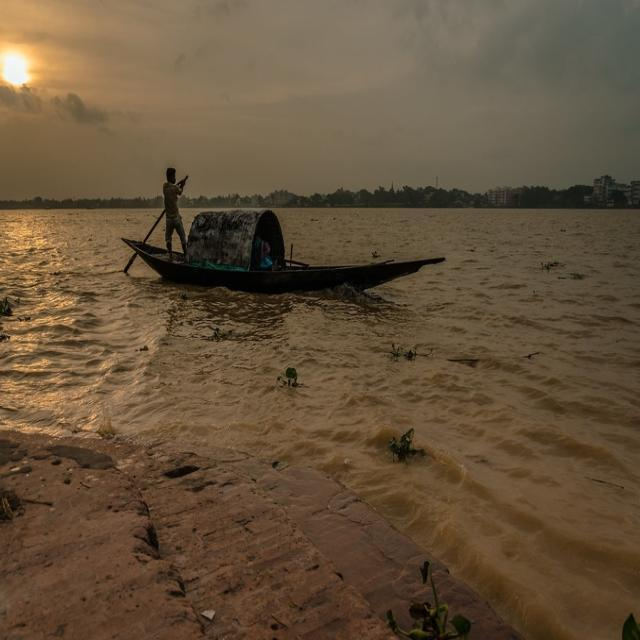Hyacinth: (375, 426, 434, 472), (265, 364, 314, 403), (379, 334, 427, 373)
boat: (114, 222, 450, 310)
